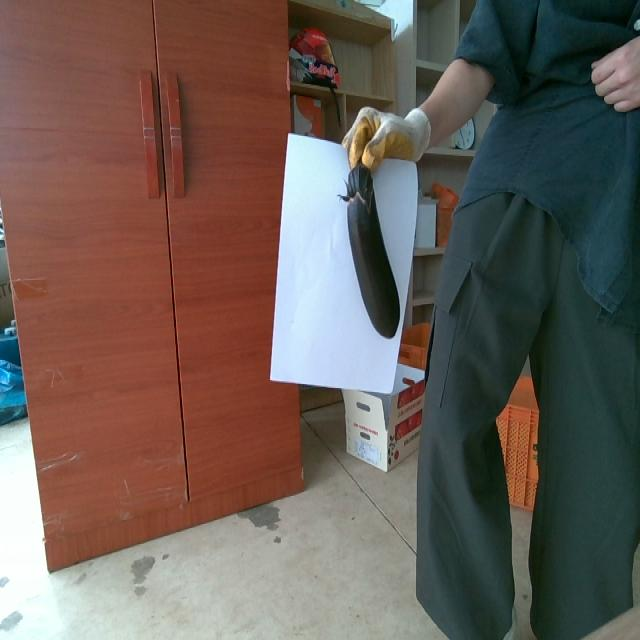Egg plant: (342, 164, 399, 337)
